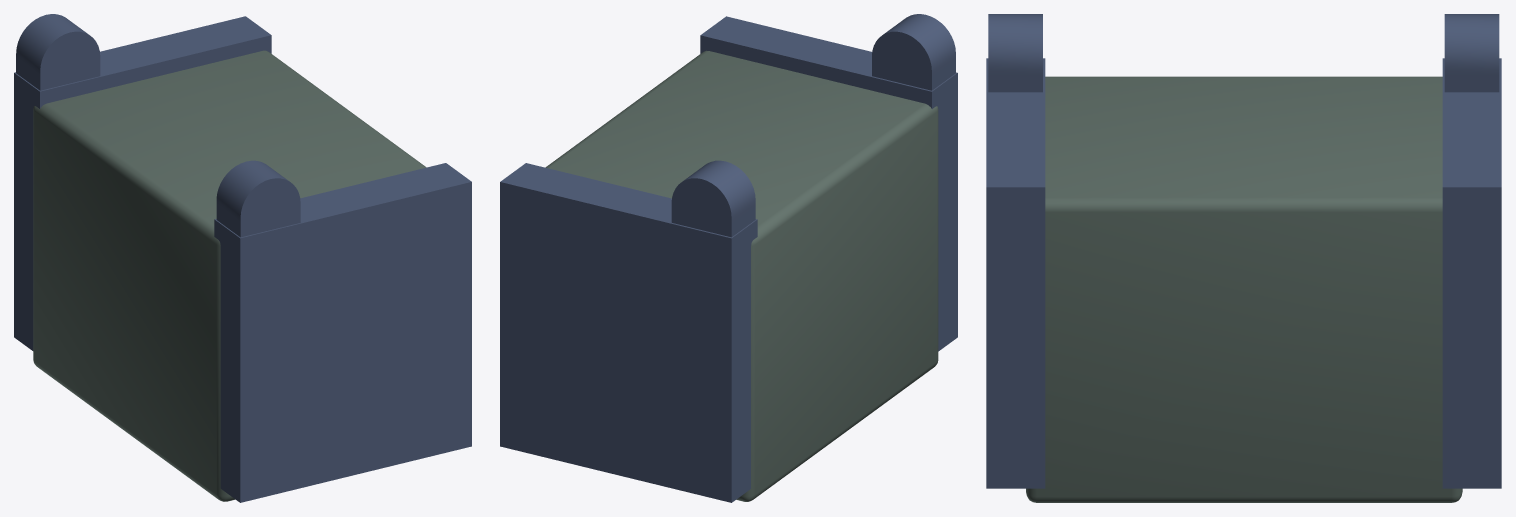
The model's file is HILL_2.fbx.
3 renders of one model, left to right at view 1: azimuth 30°, elevation 25°; view 2: azimuth 150°, elevation 25°; view 3: azimuth 270°, elevation 25°, orthographic. The views are drawn at different scales.
Visible parts, largest first — view 1: Hill2, Cube; view 2: Hill2, Cube; view 3: Cube, Hill2.
Part boxes in pixels (x1=…): Hill2: x1=14, y1=14, x2=471, y2=502; Cube: x1=33, y1=50, x2=426, y2=501; Hill2: x1=500, y1=14, x2=957, y2=502; Cube: x1=545, y1=50, x2=938, y2=501; Cube: x1=1026, y1=76, x2=1462, y2=502; Hill2: x1=986, y1=14, x2=1501, y2=488.
Bounding box in the file's own units: 168 × 228 × 282.
